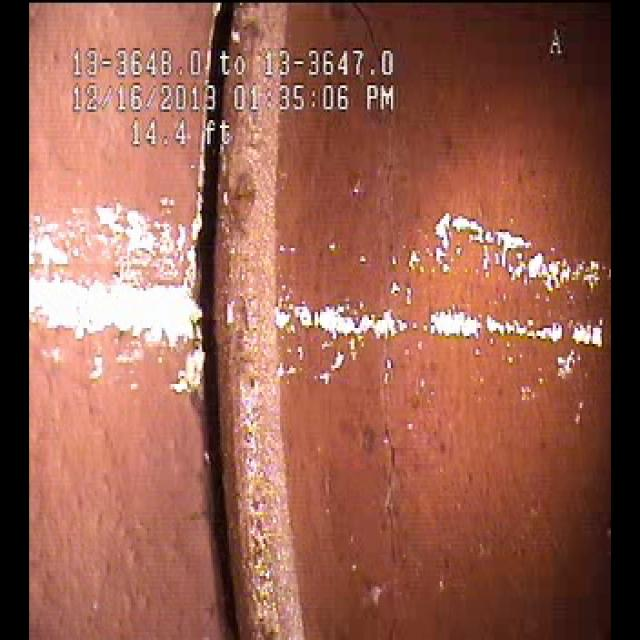Crack: (359, 283, 443, 586)
